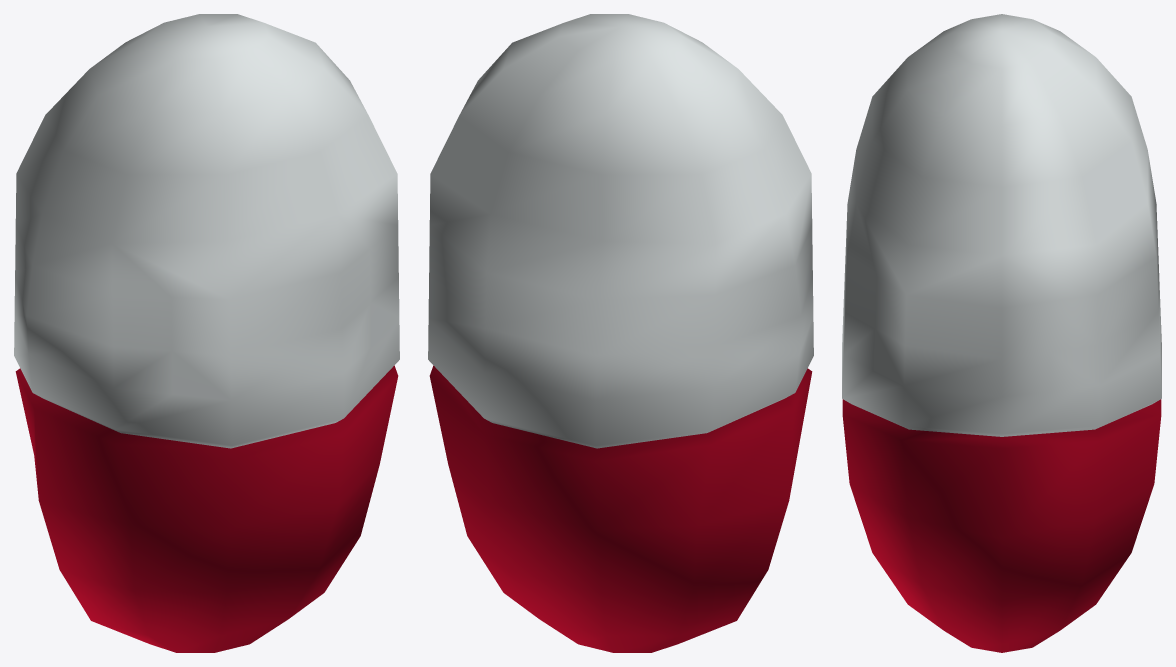
The model's file is pildora.fbx.
3 renders of one model, left to right at view 1: azimuth 30°, elevation 25°; view 2: azimuth 150°, elevation 25°; view 3: azimuth 270°, elevation 25°, orthographic.
Visible parts, largest first — view 1: polySurface1; view 2: polySurface1; view 3: polySurface1.
Boxes of the visible parts, x1,y1,x2,y2 form: polySurface1: (14,14,399,652); polySurface1: (428,14,813,652); polySurface1: (842,14,1161,652).
Bounding box in the file's own units: 4.98 × 8.14 × 3.89.
